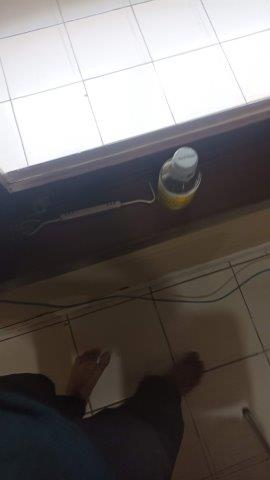botolkaca: (155, 146, 202, 216)
